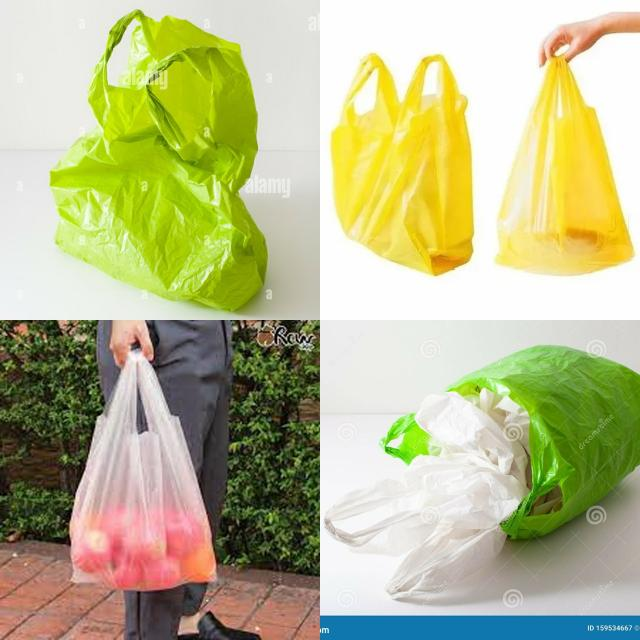Single-layer Plastic: (50, 10, 268, 311), (324, 389, 530, 599), (448, 345, 640, 539), (70, 351, 216, 591), (331, 54, 472, 274), (495, 55, 634, 274)
